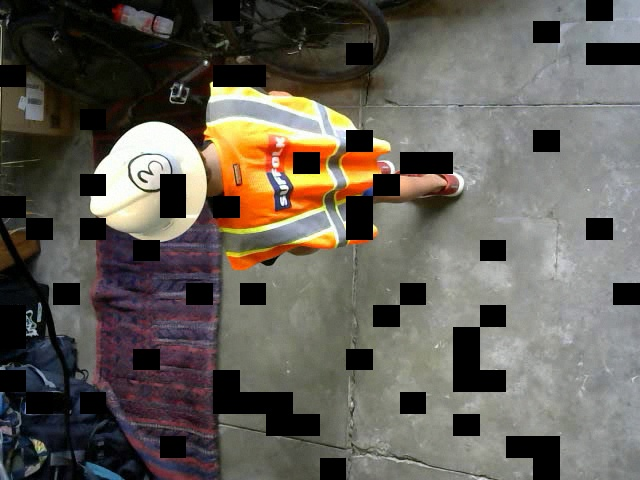three: (127, 152, 172, 192)
